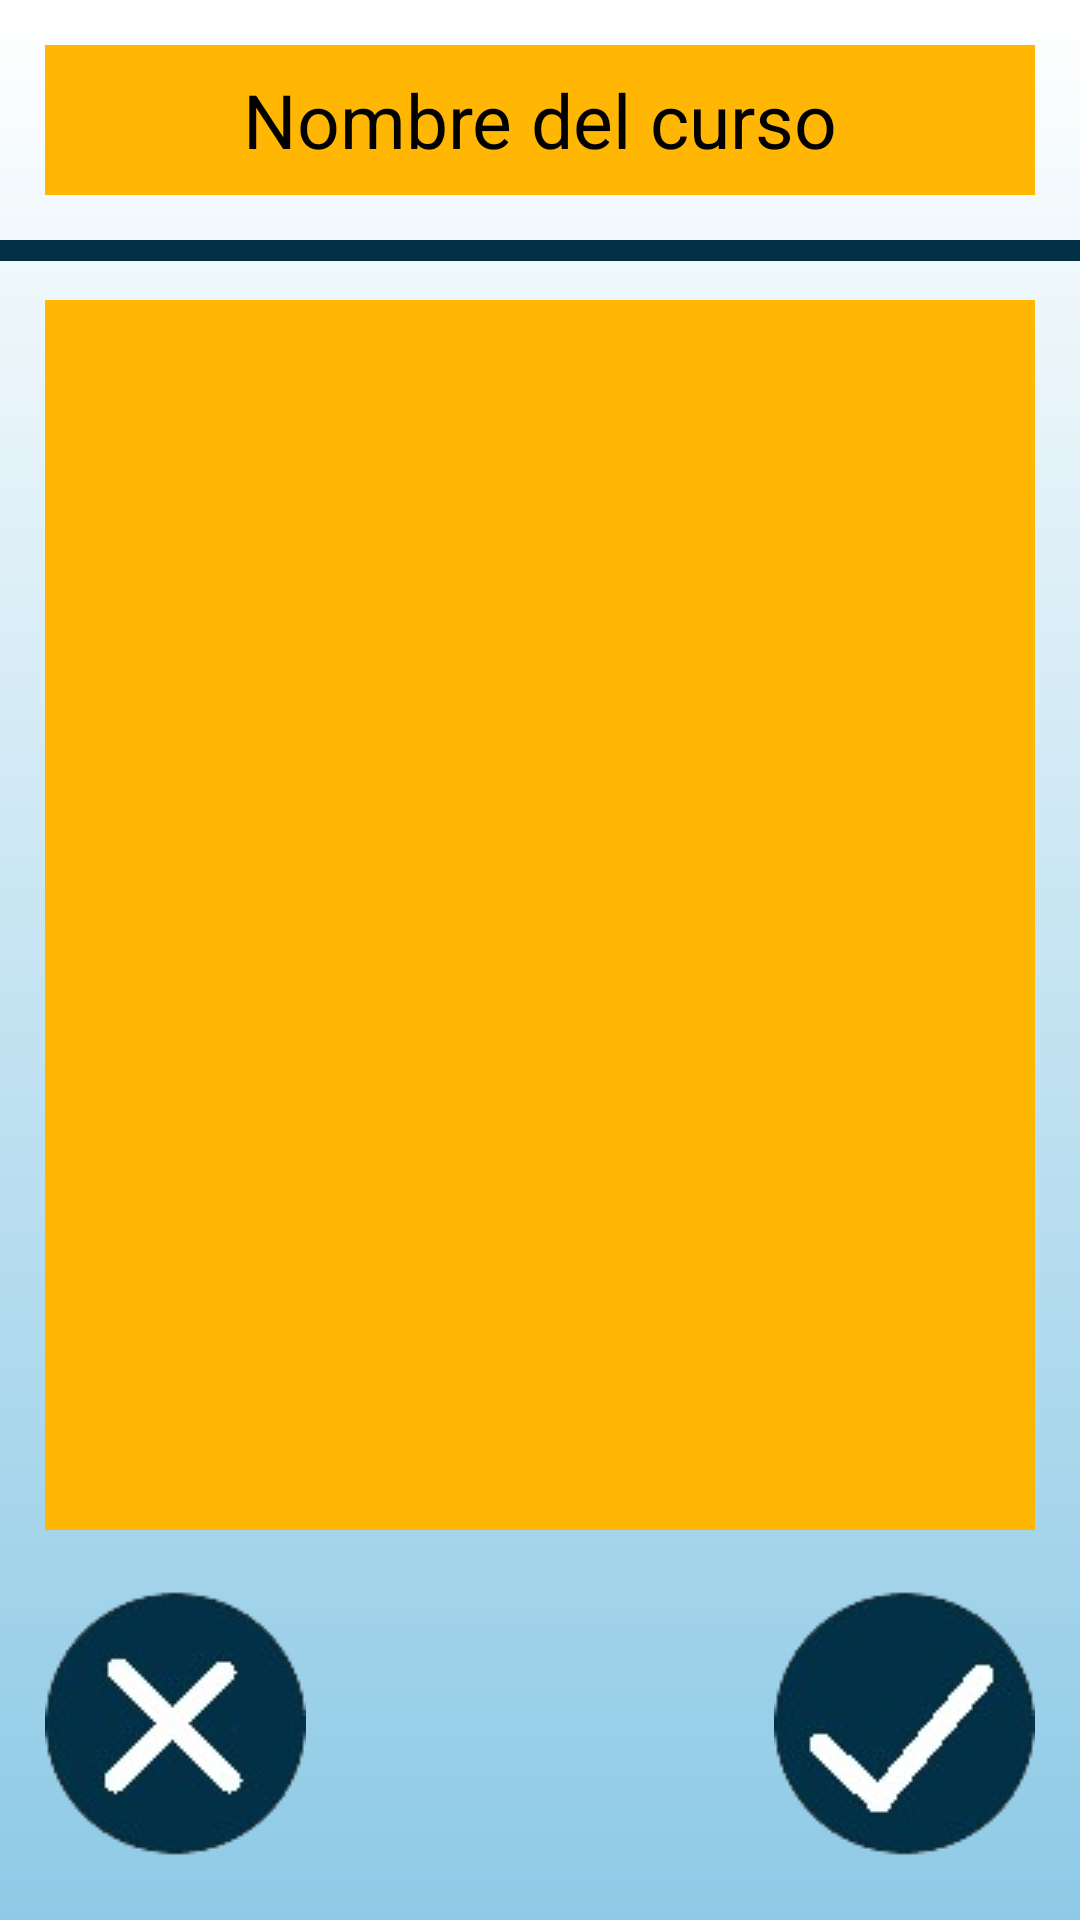

Point at icon controls on the screen. Image size 1080px×1920px, points as [x,y].
cancel: [175,1723]
check: [904,1723]
